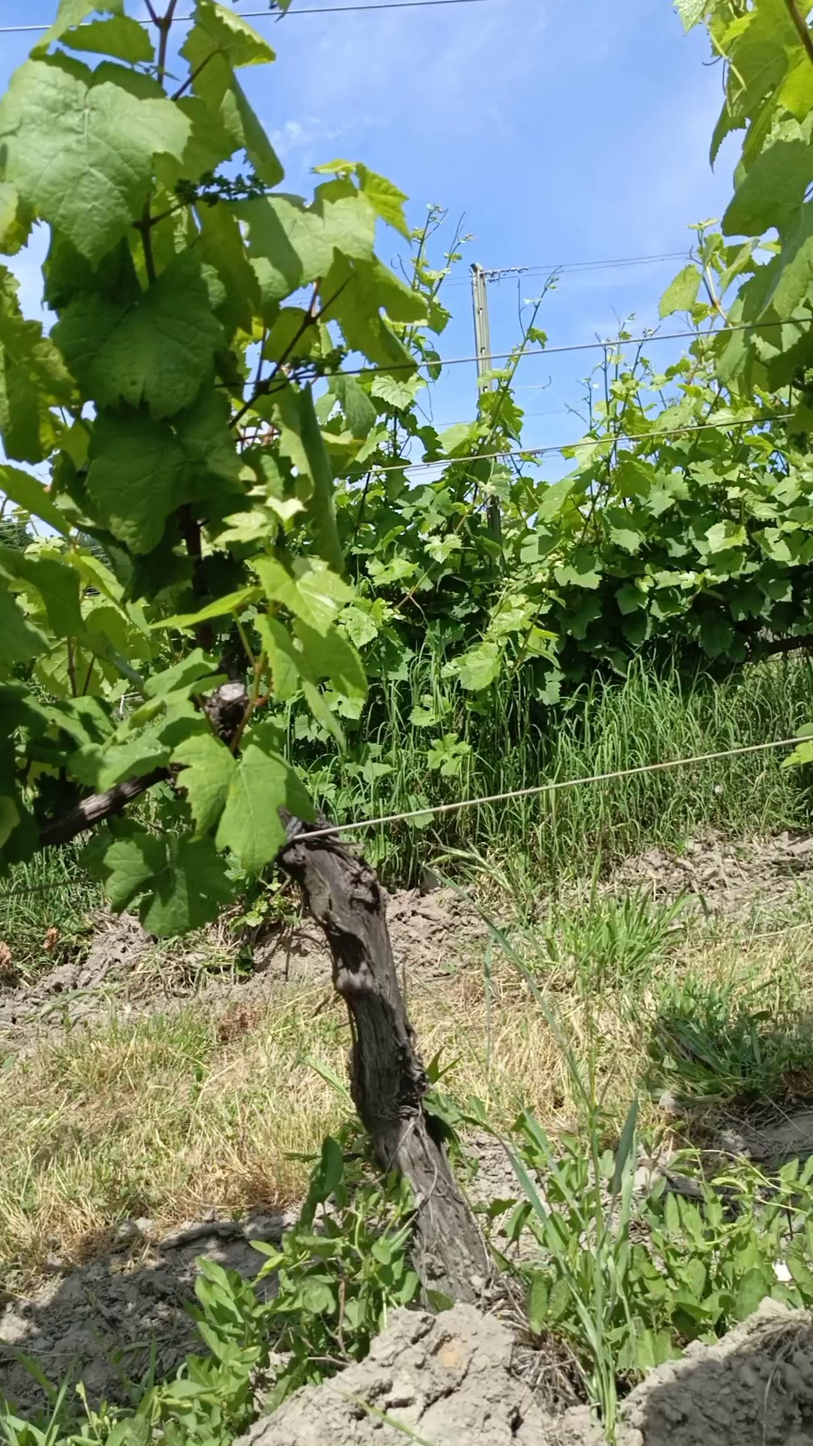vine_trunk: (280, 810, 488, 1302)
